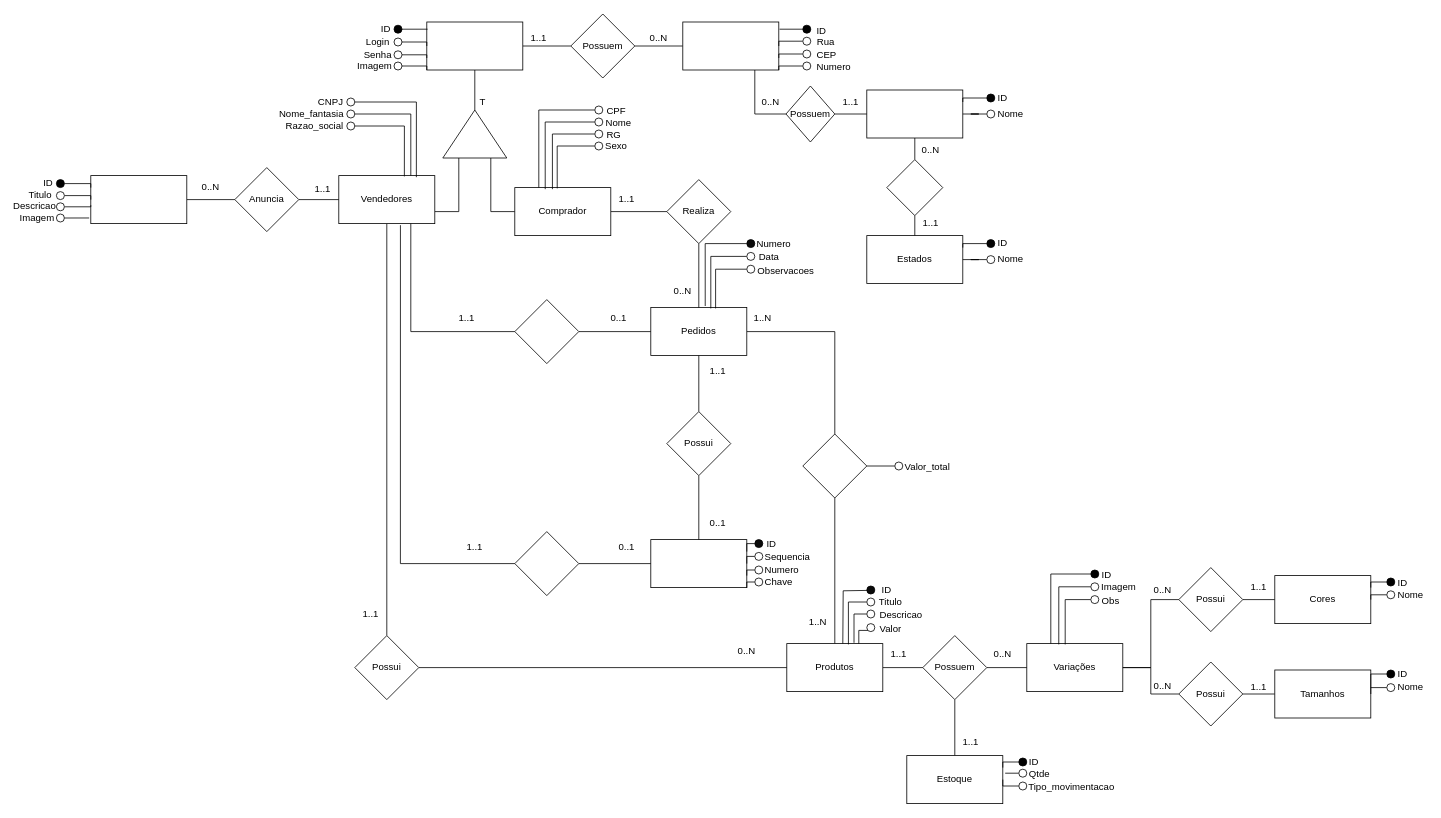
The diagram is 1441 pixels wide and 818 high, and some of its shapes have lost their labels. The centre of each missing label's shape, as x and y in pixels:
"Campanhas" belongs at [138,199].
"Cidades" belongs at [914,113].
"Contém" belongs at [834,465].
"Emite" belongs at [546,563].
"Endereços" belongs at [730,45].
"Notas Fiscais" belongs at [698,563].
"Pertencem" belongs at [914,187].
"Recebe" belongs at [546,331].
"Usuários" belongs at [474,45].
